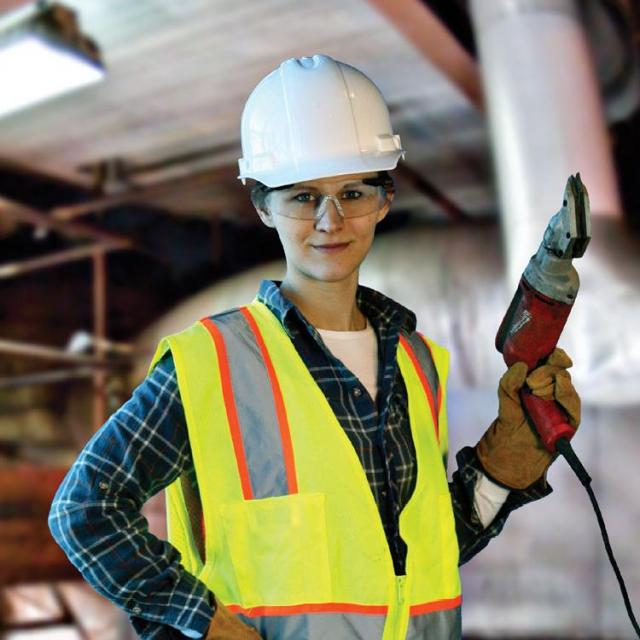Reflective-Jacket: (155, 291, 465, 633)
Safety-Helmet: (230, 52, 409, 193)
